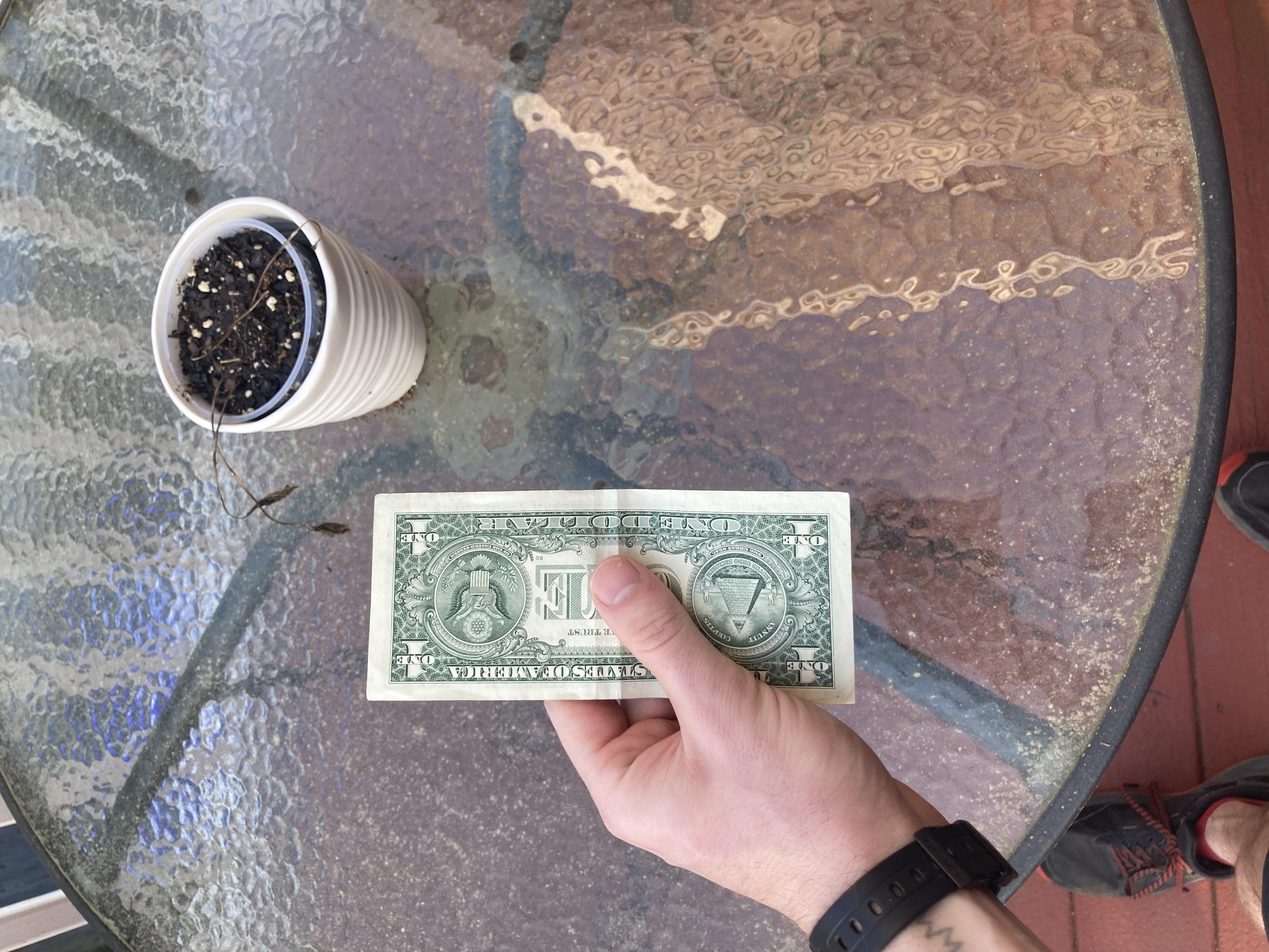one-back: (333, 277, 617, 640)
